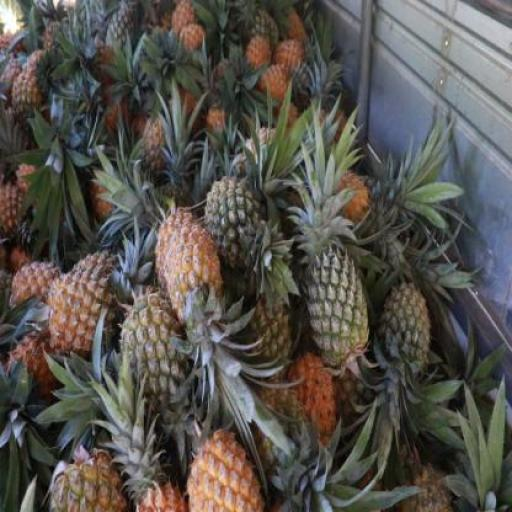------------------------------: (119, 294, 190, 404), (206, 174, 270, 273), (49, 443, 122, 512), (10, 69, 44, 127)
Pineapple - v8 v1: (48, 261, 117, 362), (186, 428, 264, 511), (169, 223, 229, 325), (155, 207, 204, 295), (10, 258, 58, 319), (0, 184, 38, 238), (261, 63, 295, 103), (274, 40, 304, 82), (246, 34, 272, 76)
